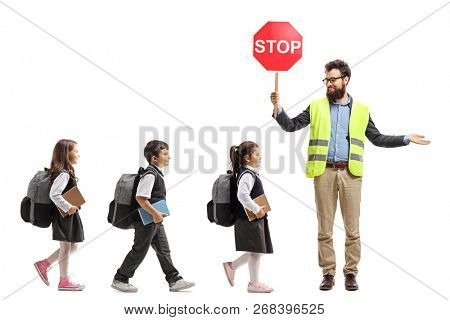person with partial safety: (305, 56, 373, 294)
person without safety: (111, 139, 197, 292), (215, 143, 283, 294), (24, 139, 89, 294)
safety vest: (308, 95, 365, 176)
